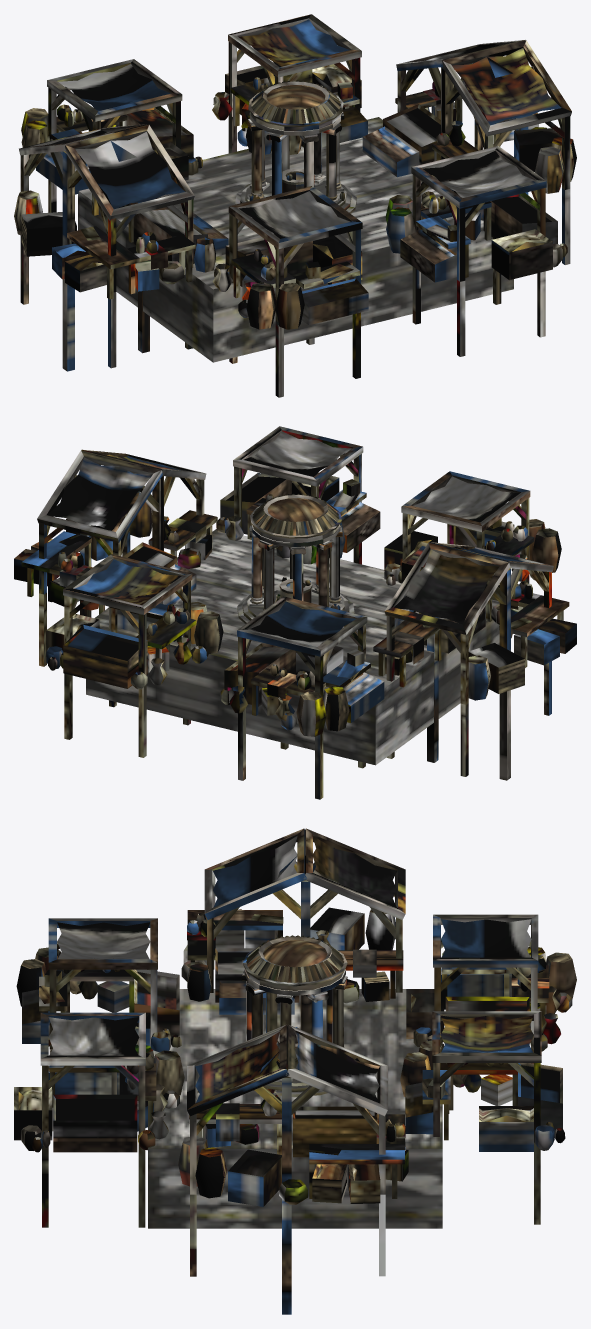
Rendered from market.glb.
3 renders of one model, top to bottom at view 1: azimuth 30°, elevation 25°; view 2: azimuth 150°, elevation 25°; view 3: azimuth 270°, elevation 25°, orthographic. The views are drawn at different scales.
Visible parts, largest first — view 1: market; view 2: market; view 3: market.
Part boxes in pixels (<box>): market: <box>14,14,576,397</box>; market: <box>14,426,576,799</box>; market: <box>14,828,576,1314</box>.
Size of the model in its own units: 4.2 by 1.79 by 3.68.
5 materials, 5 textured.
